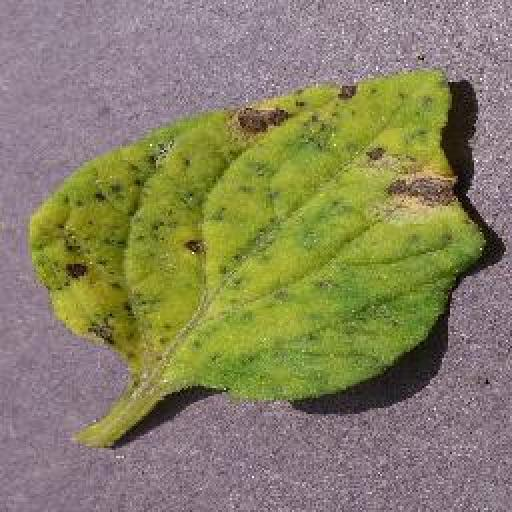disease_tomato: (36, 72, 486, 399)
